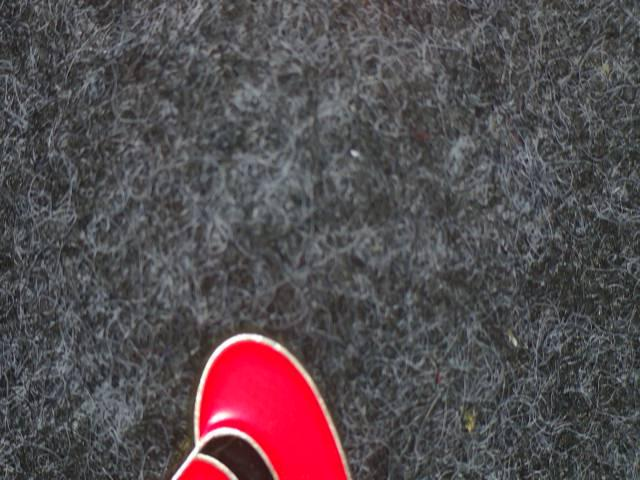Red-Hat: (116, 317, 430, 480)
